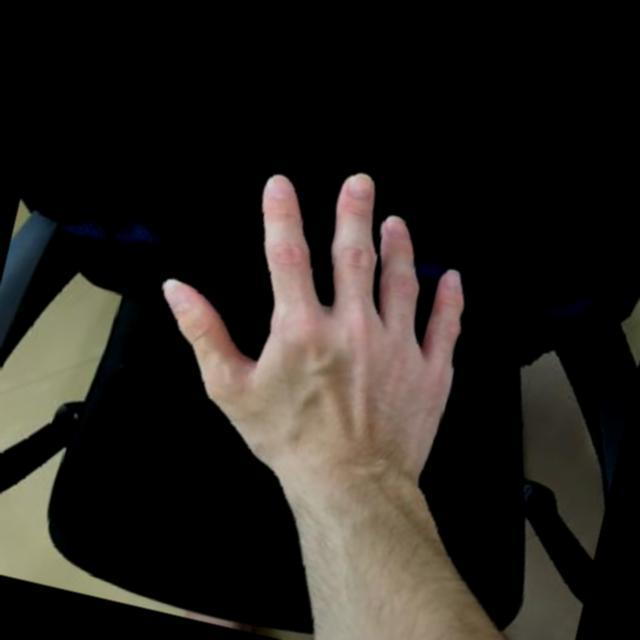hand: (115, 122, 508, 520)
